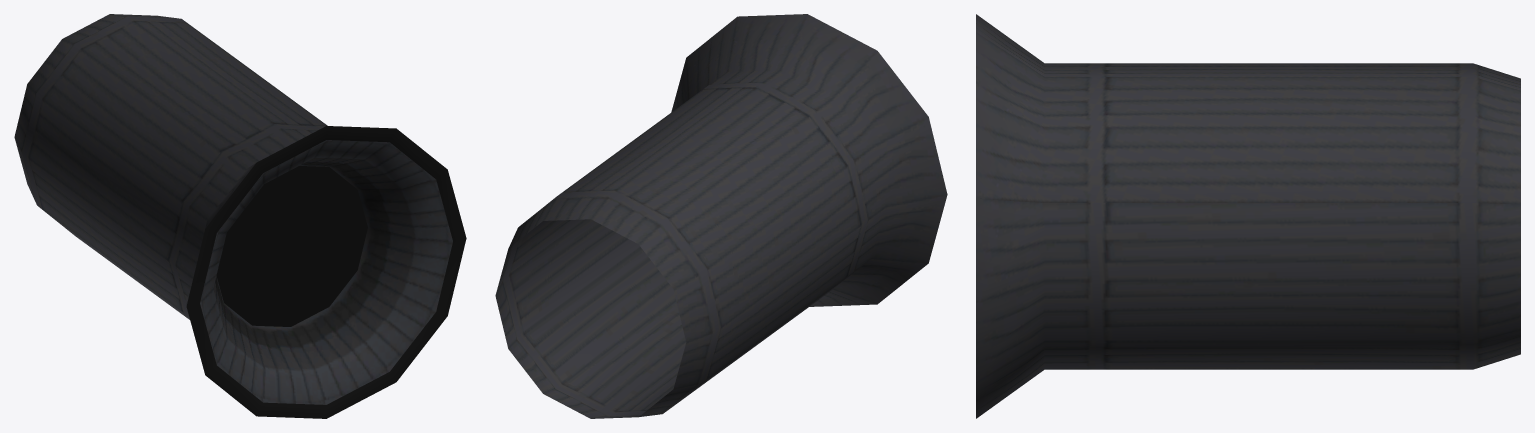
Rendered from TrashCan.obj.
The picture shows the model from 3 angles, left to right: view 1: azimuth 30°, elevation 25°; view 2: azimuth 150°, elevation 25°; view 3: azimuth 270°, elevation 25°; orthographic projection. The views are drawn at different scales.
Parts seen in each view (by area): view 1: TrashCan; view 2: TrashCan; view 3: TrashCan.
Part boxes in pixels (x1,y1,x2,y2): TrashCan: [14, 14, 466, 418]; TrashCan: [495, 14, 947, 418]; TrashCan: [976, 14, 1520, 418].
Bounding box in the file's own units: 0.8552 × 0.8552 × 1.15.
Materials: 3 (1 with a texture image).
